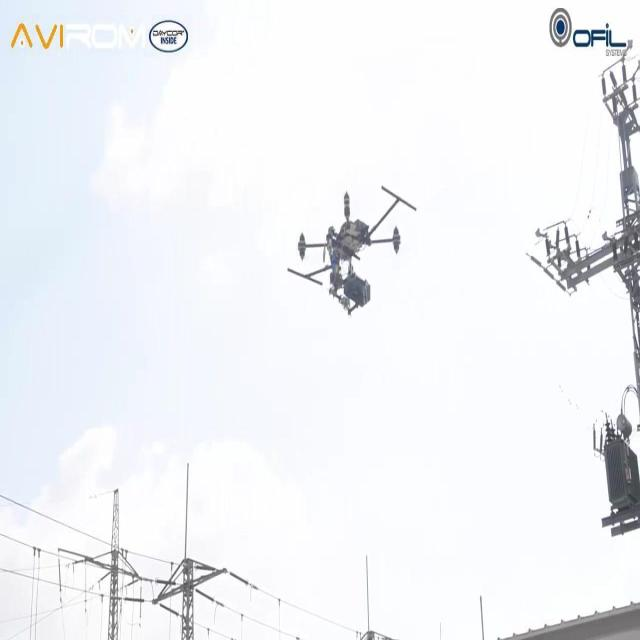drone: (287, 184, 417, 318)
